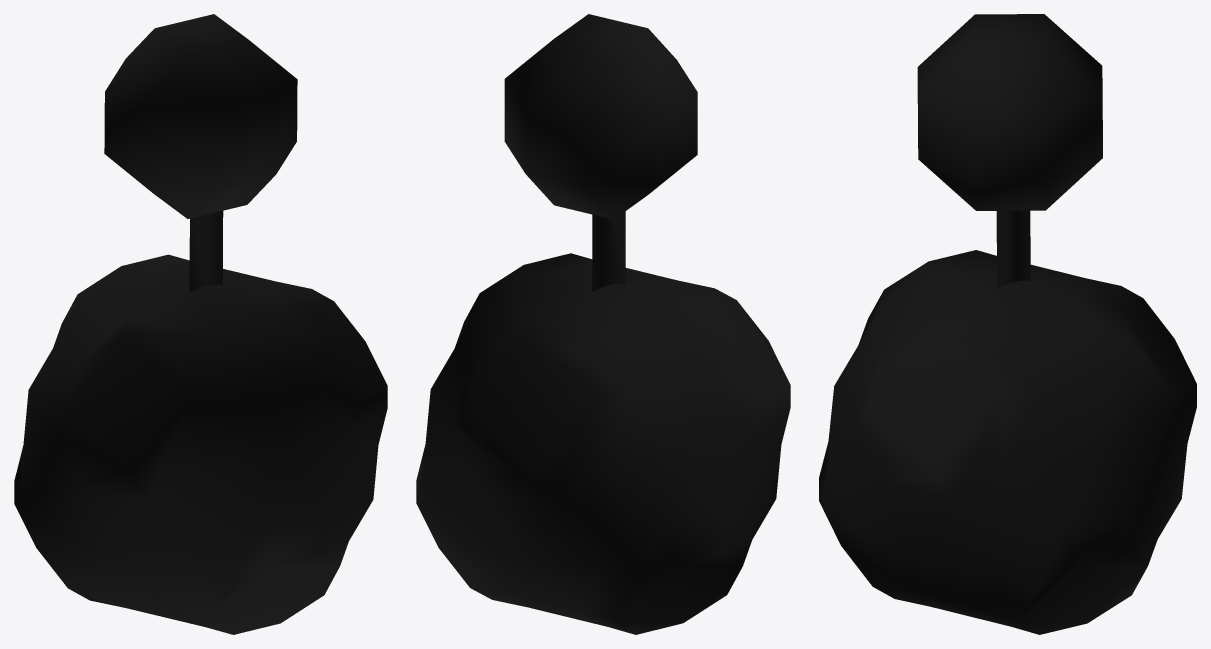
File: keroball.ico.obj
3 views of the same model, side by side, from view 1: azimuth 30°, elevation 25°; view 2: azimuth 150°, elevation 25°; view 3: azimuth 270°, elevation 25° (orthographic).
Bounding box in the file's own units: 2.61 × 4.72 × 2.78.
Materials: 1 (1 with a texture image).
